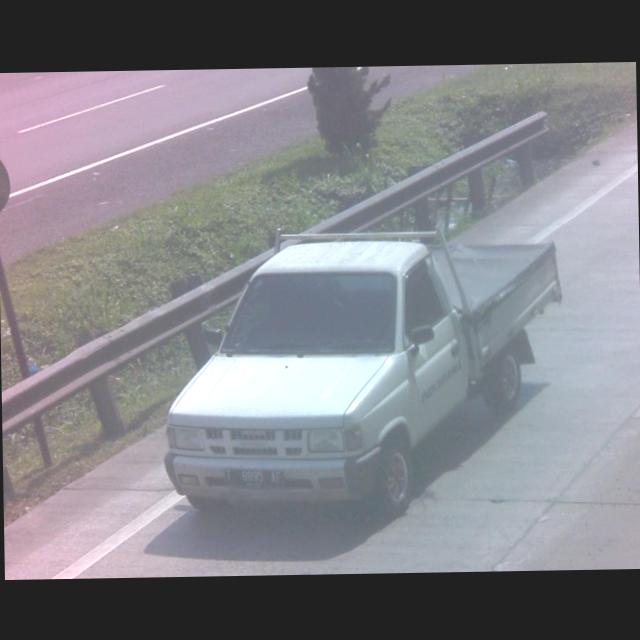plate: (221, 464, 286, 490)
